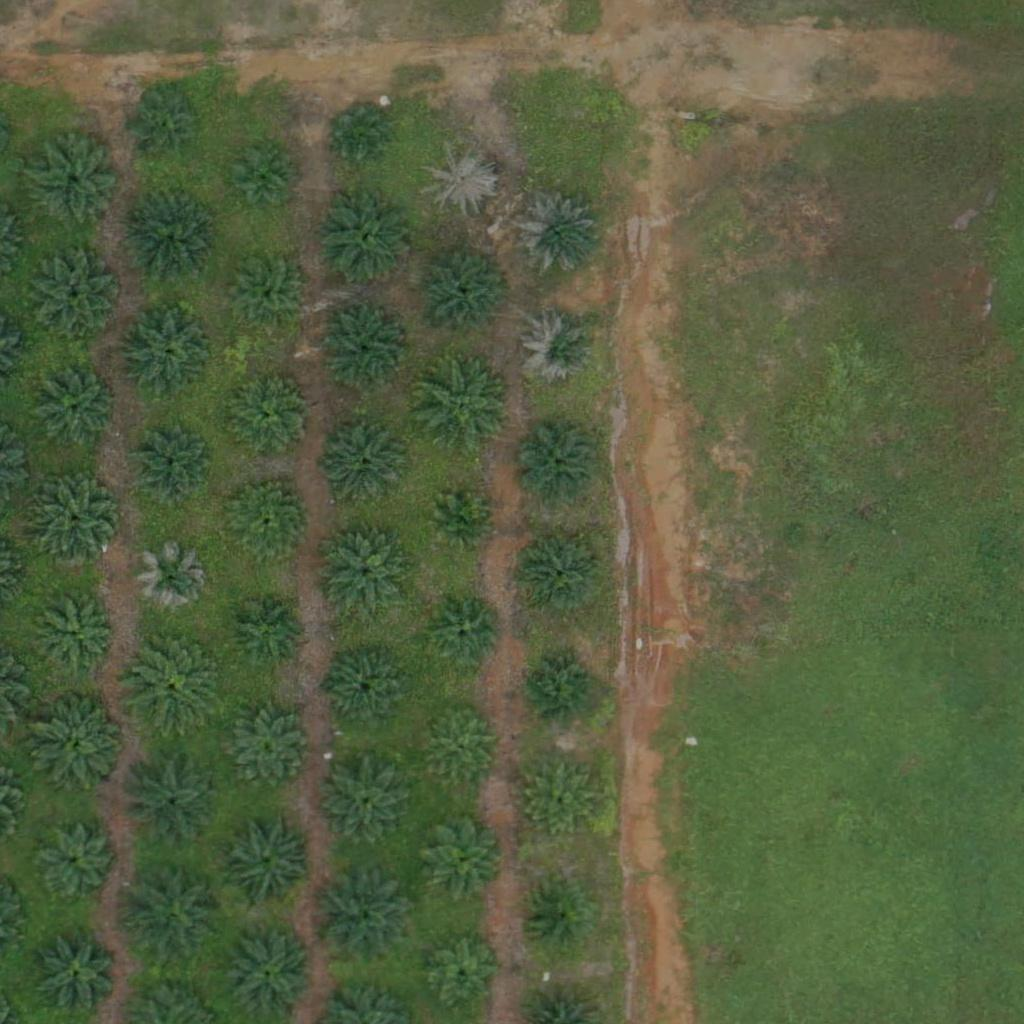Kelapa_Sawit: (25, 131, 125, 232), (127, 634, 227, 735), (310, 868, 410, 969), (215, 699, 315, 800), (215, 809, 315, 910), (121, 749, 221, 850), (317, 189, 417, 289), (416, 243, 516, 343), (416, 357, 516, 457), (124, 865, 224, 965), (29, 693, 129, 793), (33, 255, 121, 344), (223, 479, 311, 568), (325, 646, 413, 735), (224, 586, 312, 674), (127, 198, 215, 286), (124, 311, 212, 399), (226, 377, 314, 465), (512, 191, 600, 279), (514, 421, 602, 509), (515, 532, 603, 620), (320, 760, 408, 848), (32, 822, 120, 910), (416, 813, 503, 901), (30, 369, 117, 457), (33, 479, 120, 567), (322, 306, 409, 394), (321, 422, 408, 510), (322, 532, 409, 620), (224, 933, 311, 1021), (39, 596, 114, 672), (423, 142, 498, 218), (524, 312, 599, 388), (41, 939, 116, 1015), (229, 261, 304, 336), (429, 597, 504, 672), (427, 939, 502, 1014), (519, 760, 594, 835), (526, 652, 601, 727), (133, 429, 208, 504), (135, 543, 210, 618), (421, 708, 496, 783), (134, 94, 197, 157), (231, 141, 294, 204), (524, 883, 587, 946), (431, 492, 494, 555), (327, 102, 389, 164)
